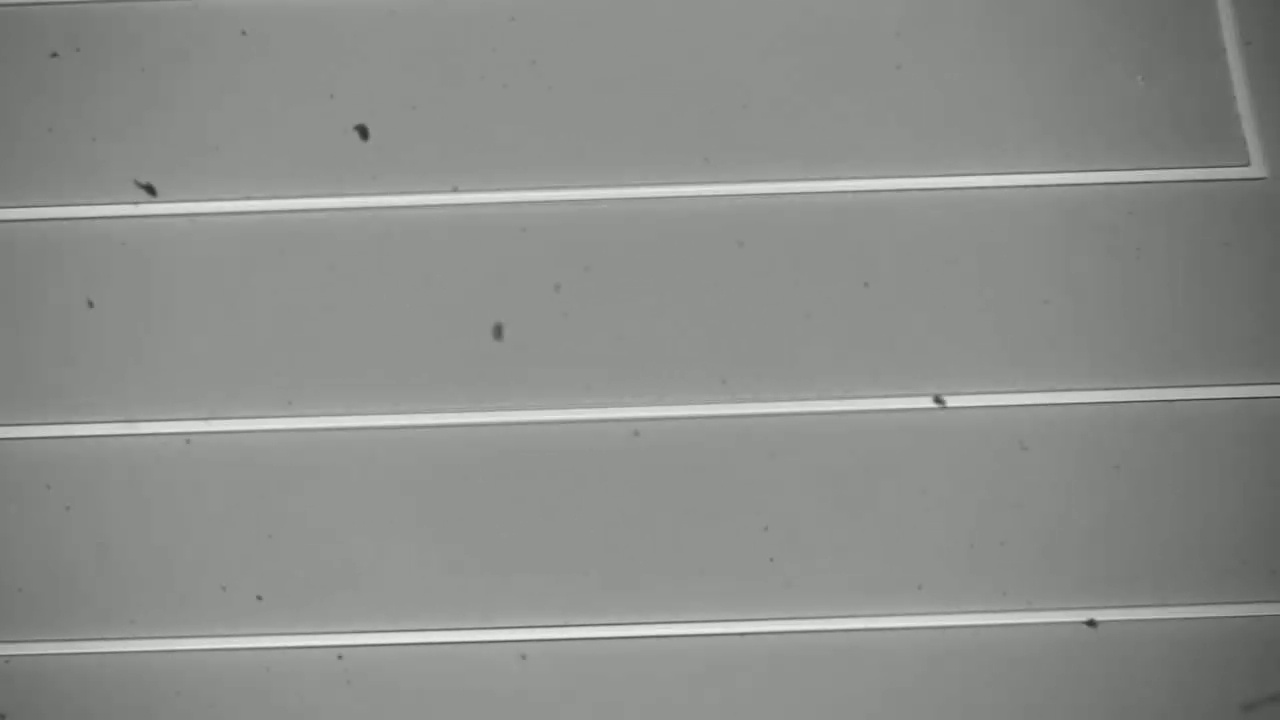stains_enbedded: (927, 388, 953, 419), (1079, 604, 1102, 631)
